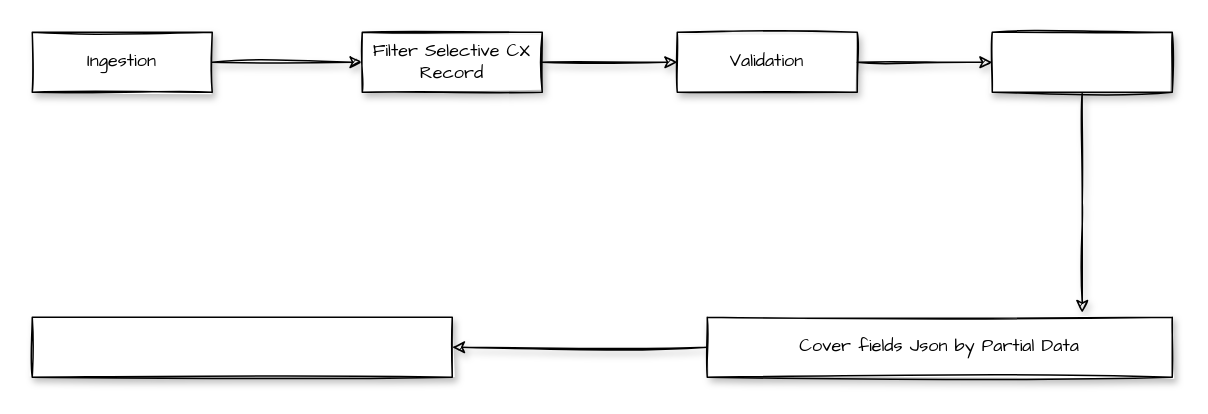
The diagram is 1208 pixels wide and 414 high, and some of its shapes have lost their labels. Each missing label, with the centre of its shape:
Transform to Json: the point at 1083,64
Transportation (Bulk / Single API): the point at 243,349
